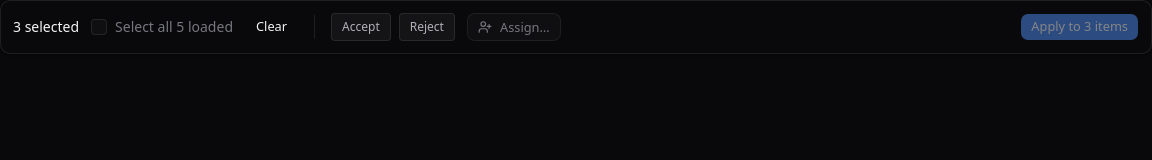
it: IntakeBulkActionBar › toggles the armed action off when clicked again
Click the button "Accept" at (361, 27), box top-left (331, 13), bottom-right (391, 41)
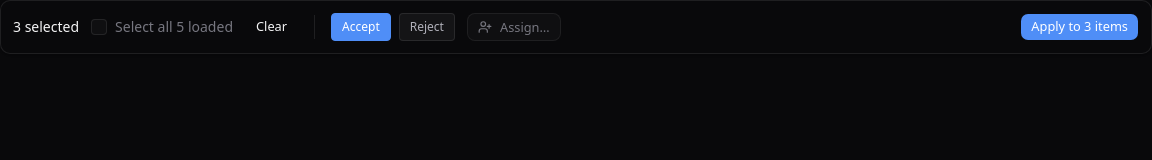
Check: the button "Accept" is pressed
Click the button "Accept" at (361, 27), box top-left (331, 13), bottom-right (391, 41)
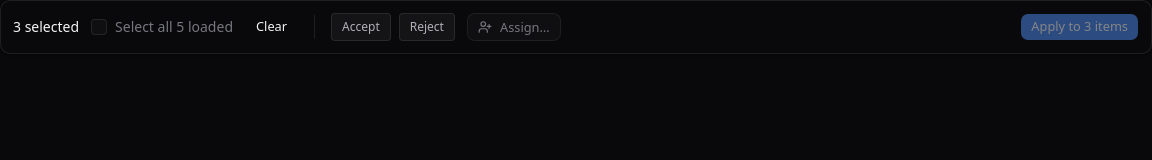
Check: the button "Apply to 3 items" is disabled, box top-left (1020, 13), bottom-right (1139, 41)
